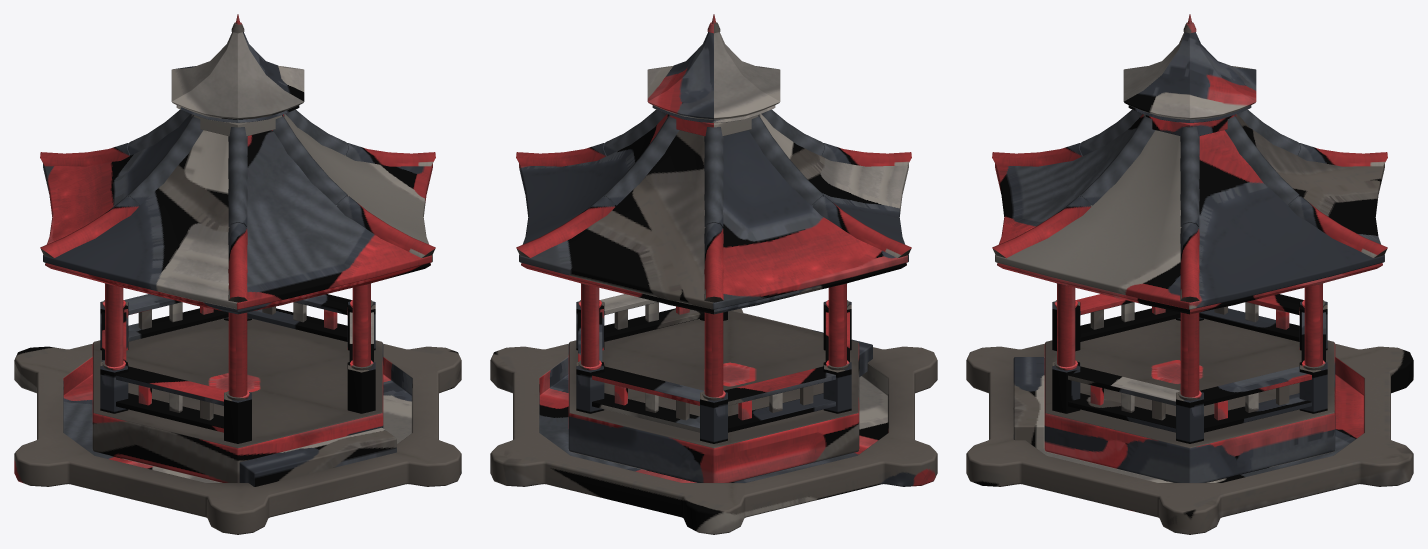
File: pavilion_5.fbx
3 renders of one model, left to right at view 1: azimuth 30°, elevation 25°; view 2: azimuth 150°, elevation 25°; view 3: azimuth 270°, elevation 25°, orthographic.
Parts seen in each view (by area): view 1: liangting_5; view 2: liangting_5; view 3: liangting_5.
Boxes of the visible parts, x1,y1,x2,y2 form: liangting_5: (14,14,461,534); liangting_5: (490,14,937,534); liangting_5: (966,14,1413,534).
Bounding box in the file's own units: 1669 × 1498 × 1467.
